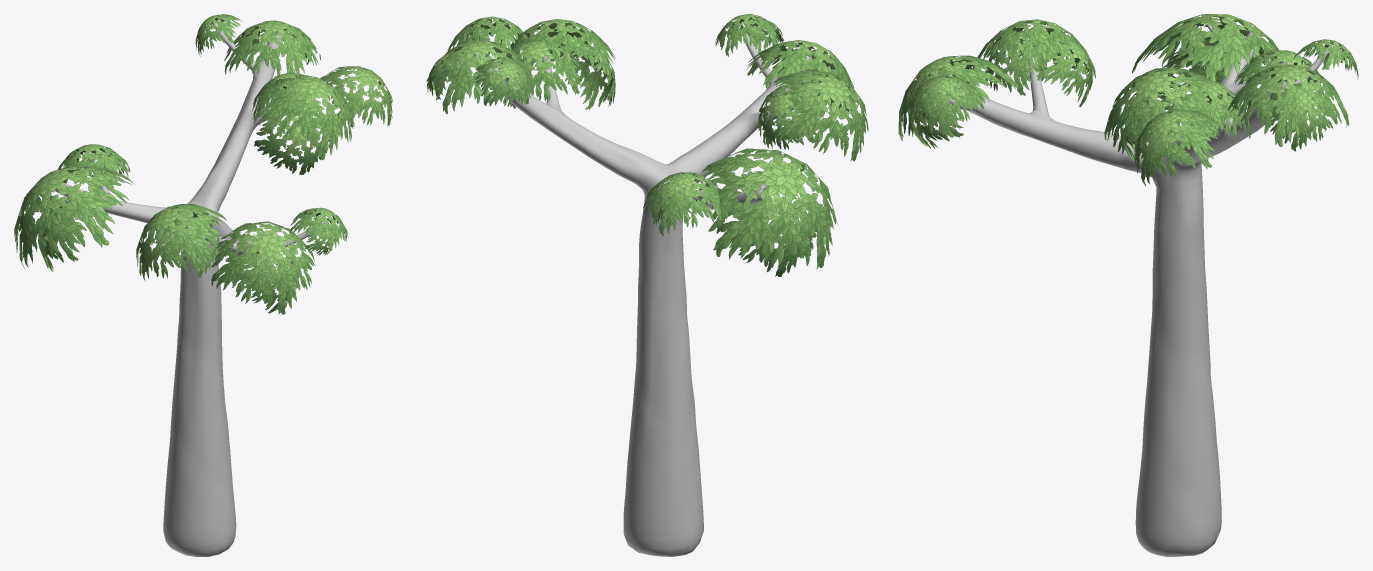
Rendered from YoungTree_FULL_Model_v001.fbx.
3 views of the same model, side by side, from view 1: azimuth 30°, elevation 25°; view 2: azimuth 150°, elevation 25°; view 3: azimuth 270°, elevation 25° (orthographic). The views are drawn at different scales.
Visible parts, largest first — view 1: YoungTreeTrunk, YoungLeaves1, YoungLeaves3, YoungLeaves7, YoungLeaves5, YoungLeaves6, YoungLeaves17, YoungLeaves13, YoungLeaves2, YoungLeaves4, YoungLeaves8, YoungLeaves14 (+4 smaller); view 2: YoungTreeTrunk, YoungLeaves1, YoungLeaves5, YoungLeaves6, YoungLeaves2, YoungLeaves7, YoungLeaves3, YoungLeaves15, YoungLeaves8, YoungLeaves14, YoungLeaves12, YoungLeaves13 (+3 smaller); view 3: YoungTreeTrunk, YoungLeaves1, YoungLeaves7, YoungLeaves6, YoungLeaves17, YoungLeaves3, YoungLeaves5, YoungLeaves4, YoungLeaves12, YoungLeaves15, YoungLeaves18, YoungLeaves11 (+5 smaller).
Part boxes in pixels (x1,y1,x2,y2): YoungTreeTrunk: [55, 23, 324, 556]; YoungLeaves1: [14, 164, 134, 269]; YoungLeaves3: [211, 221, 315, 314]; YoungLeaves7: [253, 74, 354, 159]; YoungLeaves5: [136, 204, 226, 281]; YoungLeaves6: [224, 20, 321, 75]; YoungLeaves17: [320, 66, 392, 125]; YoungLeaves13: [254, 98, 330, 174]; YoungLeaves2: [58, 144, 130, 188]; YoungLeaves4: [289, 207, 347, 250]; YoungLeaves8: [195, 14, 242, 56]; YoungLeaves14: [41, 192, 114, 271]; YoungTreeTrunk: [474, 33, 818, 556]; YoungLeaves1: [698, 148, 837, 269]; YoungLeaves5: [769, 69, 868, 161]; YoungLeaves6: [426, 40, 532, 113]; YoungLeaves2: [643, 172, 724, 235]; YoungLeaves7: [507, 19, 615, 75]; YoungLeaves3: [747, 40, 853, 111]; YoungLeaves15: [497, 41, 581, 108]; YoungLeaves8: [475, 57, 531, 107]; YoungLeaves14: [716, 171, 817, 276]; YoungLeaves12: [758, 86, 823, 149]; YoungLeaves13: [550, 43, 615, 109]; YoungTreeTrunk: [949, 14, 1328, 556]; YoungLeaves1: [1132, 14, 1282, 81]; YoungLeaves7: [1104, 67, 1226, 166]; YoungLeaves6: [1228, 64, 1349, 146]; YoungLeaves17: [1133, 109, 1220, 185]; YoungLeaves3: [898, 55, 1018, 141]; YoungLeaves5: [973, 19, 1095, 81]; YoungLeaves4: [908, 75, 984, 134]; YoungLeaves12: [1032, 39, 1092, 106]; YoungLeaves15: [1161, 80, 1250, 142]; YoungLeaves18: [1265, 83, 1337, 151]; YoungLeaves11: [985, 31, 1059, 95].
Size of the model in its own units: 134 by 169 by 127.
